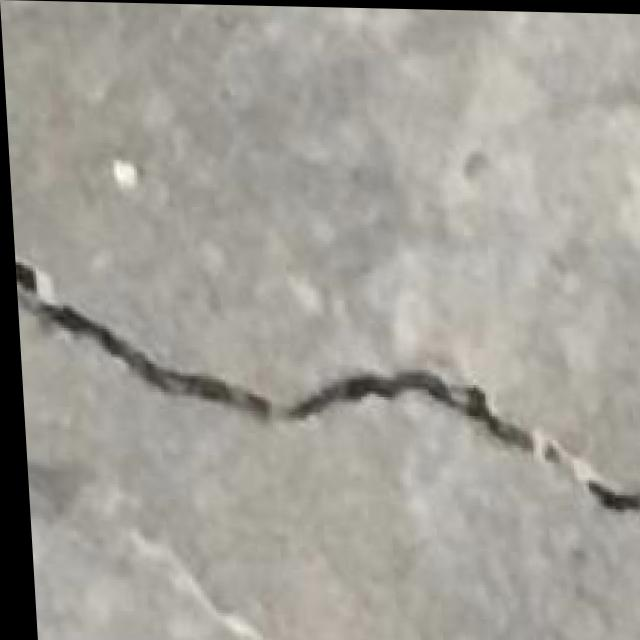Crack: (12, 267, 640, 521)
